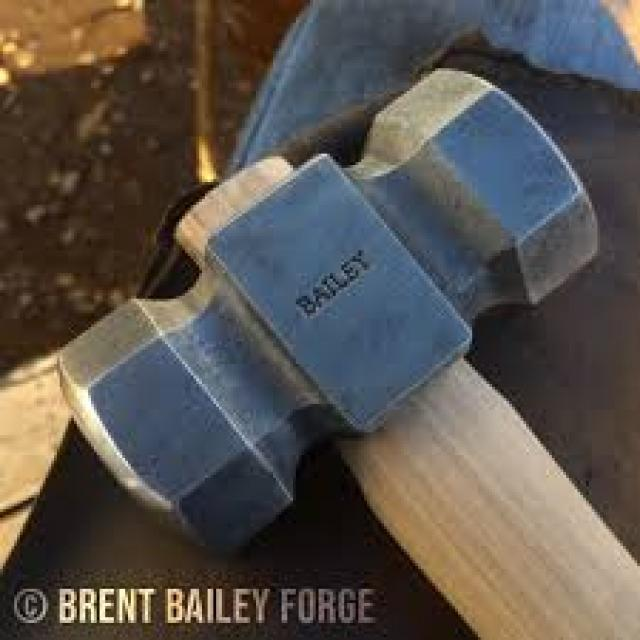hammer: (48, 59, 639, 640)
